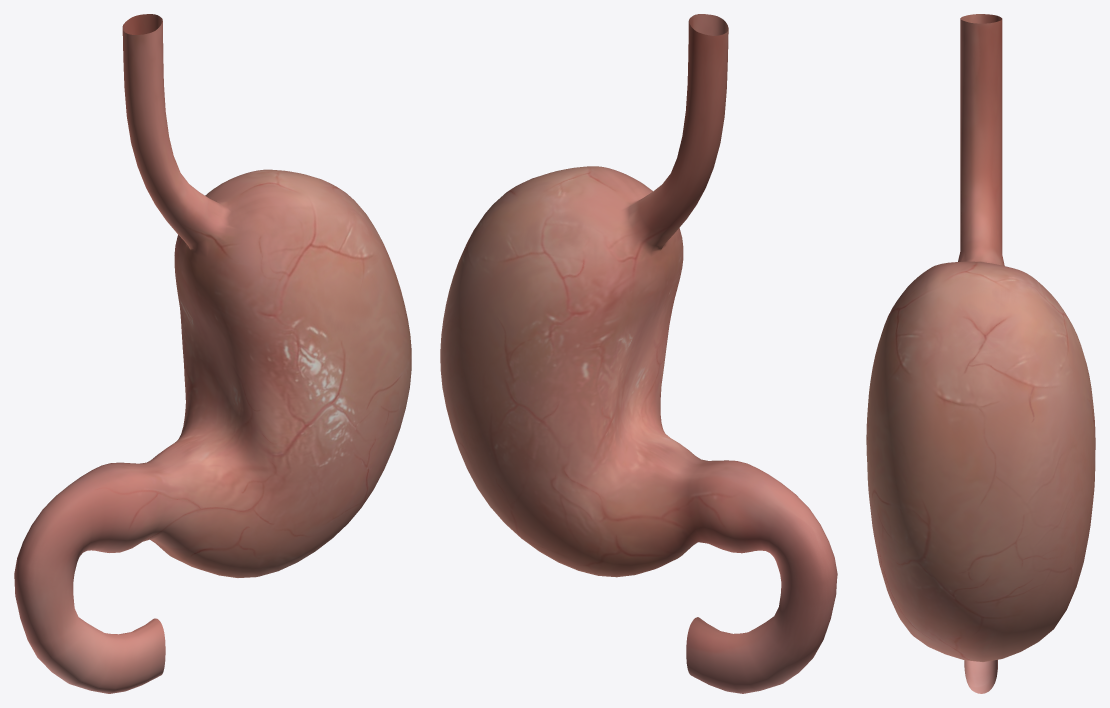
File: wei.fbx
The picture shows the model from 3 angles, left to right: view 1: azimuth 30°, elevation 25°; view 2: azimuth 150°, elevation 25°; view 3: azimuth 270°, elevation 25°; orthographic projection. The views are drawn at different scales.
Parts seen in each view (by area): view 1: wei11111:wei1:Mesh1; view 2: wei11111:wei1:Mesh1; view 3: wei11111:wei1:Mesh1.
Part boxes in pixels (x1,y1,x2,y2): wei11111:wei1:Mesh1: [14, 14, 411, 693]; wei11111:wei1:Mesh1: [440, 14, 837, 693]; wei11111:wei1:Mesh1: [866, 14, 1095, 693].
Size of the model in its own units: 14.13 by 23.79 by 7.28.
Materials: 1 (1 with a texture image).
